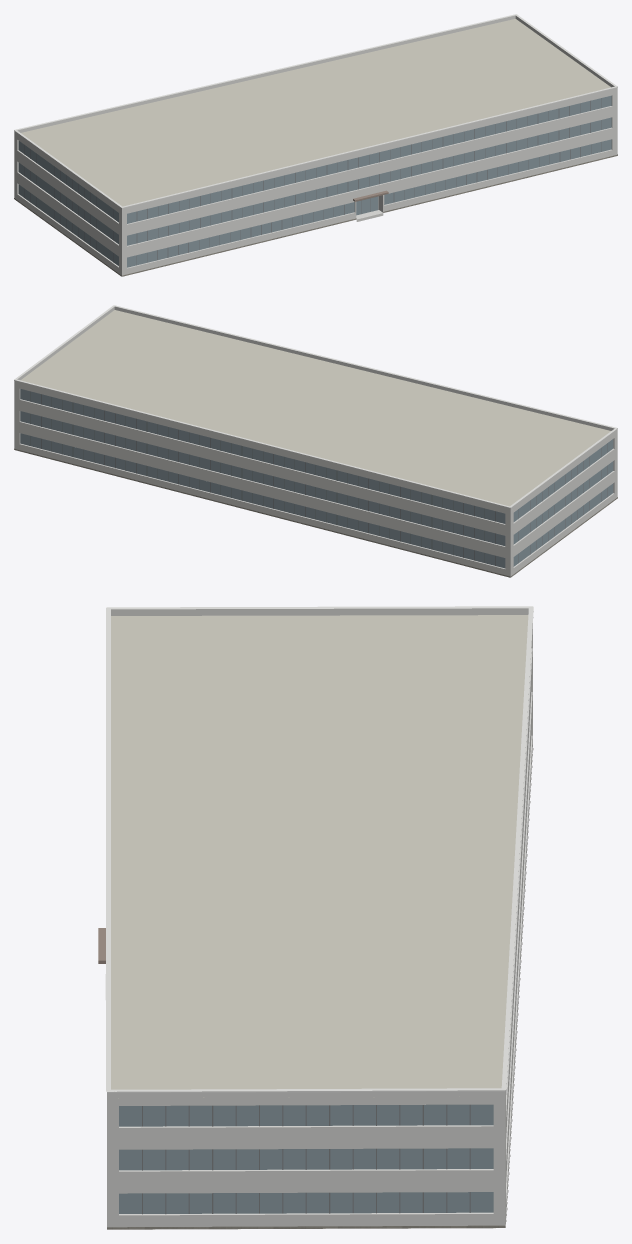
3 renders of one model, top to bottom at view 1: azimuth 30°, elevation 25°; view 2: azimuth 150°, elevation 25°; view 3: azimuth 270°, elevation 25°, orthographic. The views are drawn at different scales.
Visible parts, largest first — view 1: osm631011010__roof, osm631011010__wall, osm631011010__glass, osm631011010__parapet, osm631011010__trim, osm631011010__frame, osm631011010__base; view 2: osm631011010__roof, osm631011010__wall, osm631011010__glass, osm631011010__parapet, osm631011010__trim, osm631011010__frame, osm631011010__base; view 3: osm631011010__roof, osm631011010__wall, osm631011010__glass, osm631011010__trim, osm631011010__parapet, osm631011010__frame, osm631011010__base.
Boxes of the visible parts, box(x1,y1,x2,y2) form: osm631011010__roof: box(21, 19, 610, 206); osm631011010__wall: box(14, 90, 617, 276); osm631011010__glass: box(18, 95, 611, 267); osm631011010__parapet: box(14, 15, 617, 210); osm631011010__trim: box(14, 14, 617, 208); osm631011010__frame: box(24, 98, 601, 265); osm631011010__base: box(14, 154, 617, 276); osm631011010__roof: box(21, 310, 610, 506); osm631011010__wall: box(14, 383, 617, 577); osm631011010__glass: box(20, 389, 613, 568); osm631011010__parapet: box(14, 306, 617, 510); osm631011010__trim: box(14, 305, 617, 508); osm631011010__frame: box(30, 391, 607, 565); osm631011010__base: box(14, 448, 617, 577); osm631011010__roof: box(111, 615, 528, 1229); osm631011010__wall: box(107, 624, 532, 1227); osm631011010__glass: box(119, 1104, 493, 1213); osm631011010__trim: box(106, 606, 533, 1092); osm631011010__parapet: box(107, 608, 528, 1098); osm631011010__frame: box(142, 1104, 470, 1214); osm631011010__base: box(107, 748, 533, 1229).
Bounding box in the file's own units: 85.69 × 11.75 × 32.48.
Materials: 10 (1 with a texture image).
